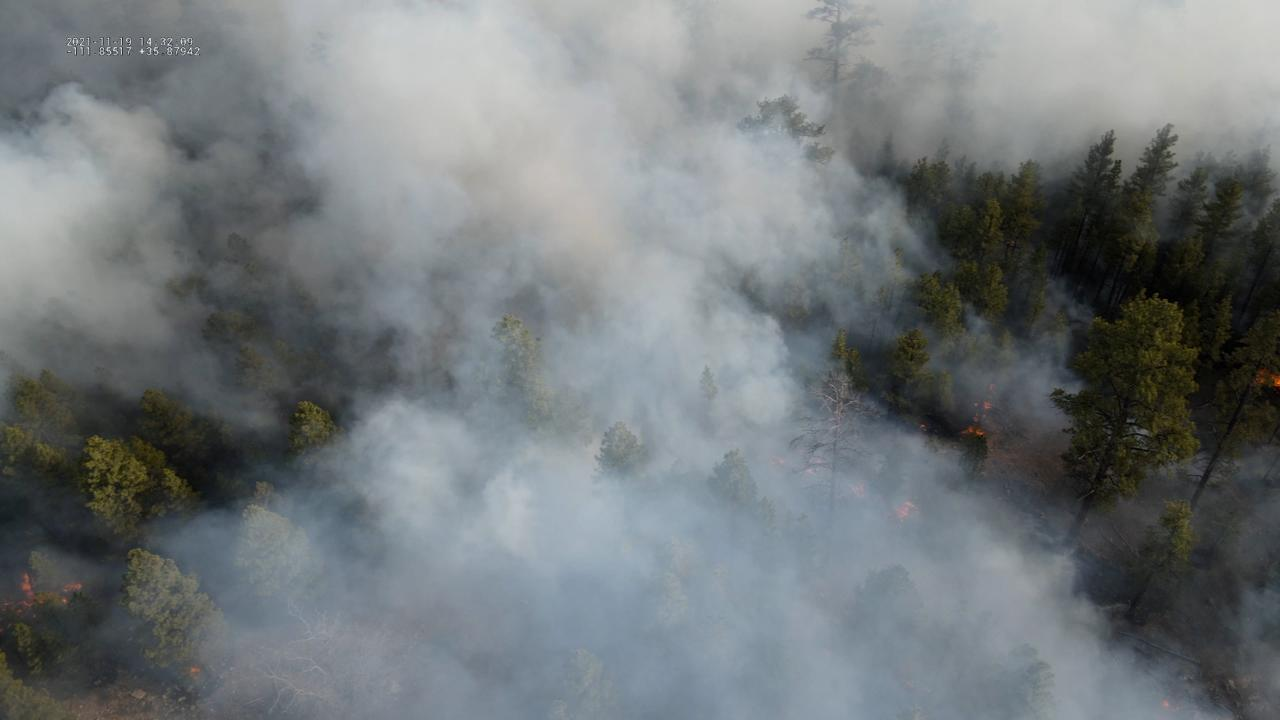fire: (1, 567, 84, 616), (1253, 366, 1280, 389), (891, 501, 913, 526), (959, 424, 986, 436), (188, 665, 202, 676), (981, 400, 992, 411), (1161, 699, 1172, 709), (987, 383, 996, 392), (919, 423, 925, 429), (971, 416, 977, 421)
smoke: (0, 0, 1280, 720)
